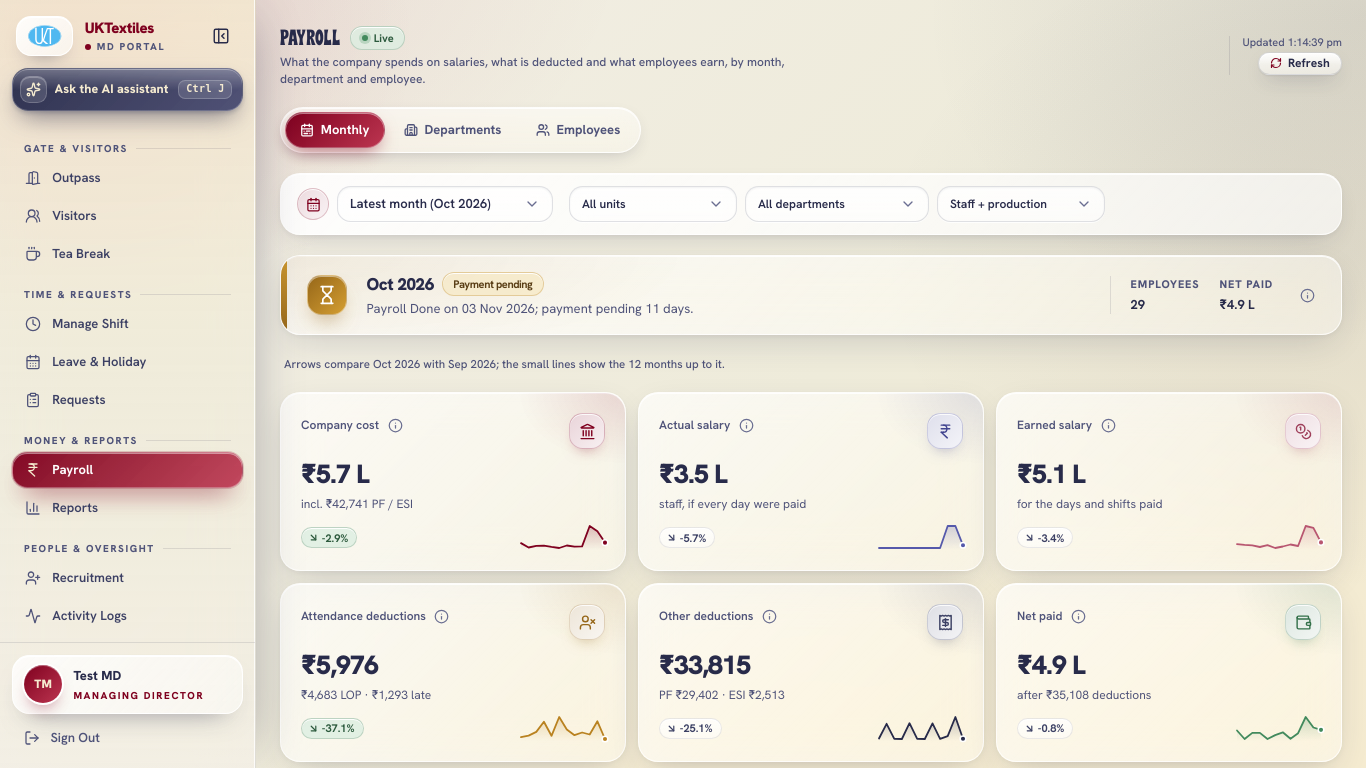
Scenario: Monthly tab › explains what a figure means
(page scrolled)
What coordinates should you click on to do the following:
click the button with test id "provenance-button" next to "Attendance deductions"
I would click on:
 (442, 616)
Its box is [428,602,456,630].
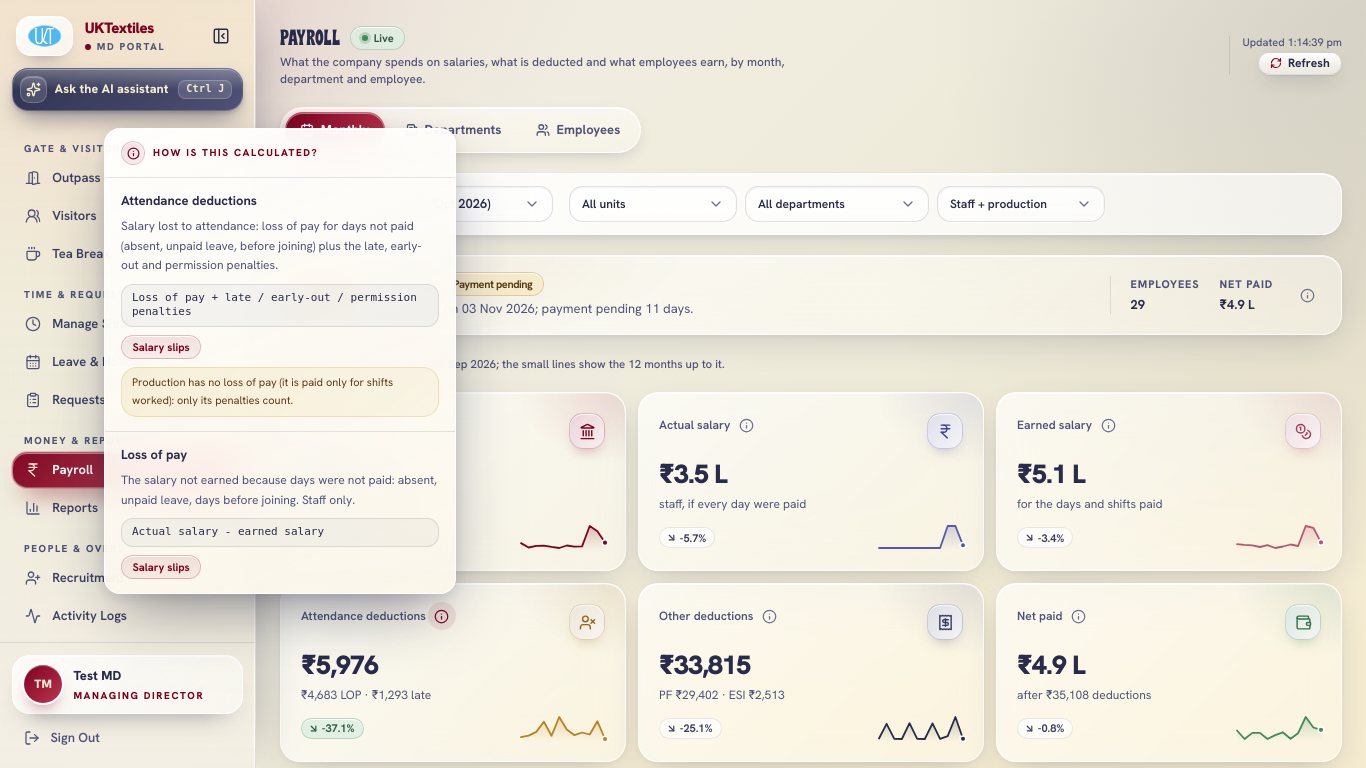
Expected: the text "Loss of pay + late / early-out / permission penalties" is shown, [121,284,439,327]
